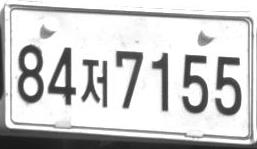1: (148, 52, 178, 111)
4: (47, 46, 76, 105)
5: (213, 56, 242, 116), (181, 53, 208, 114)
7: (115, 50, 143, 109)
8: (16, 43, 44, 103)
저: (81, 59, 108, 107)
